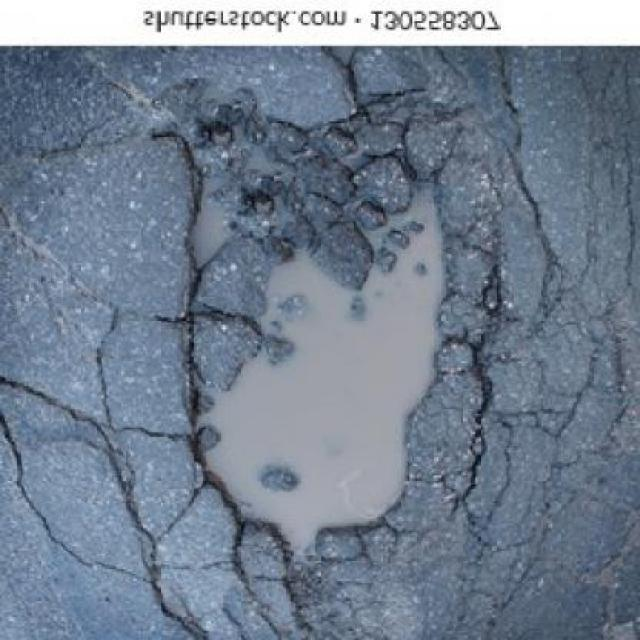Pothole: (177, 97, 463, 576)
